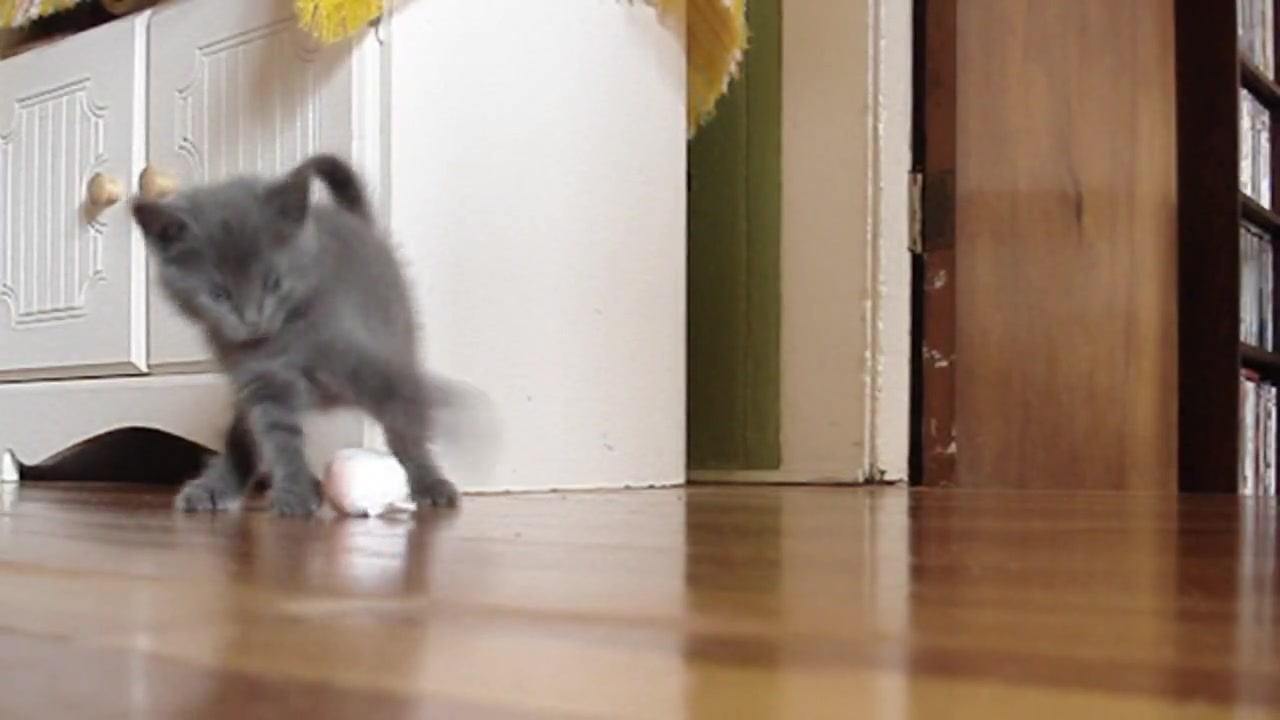cat: (130, 157, 458, 523)
